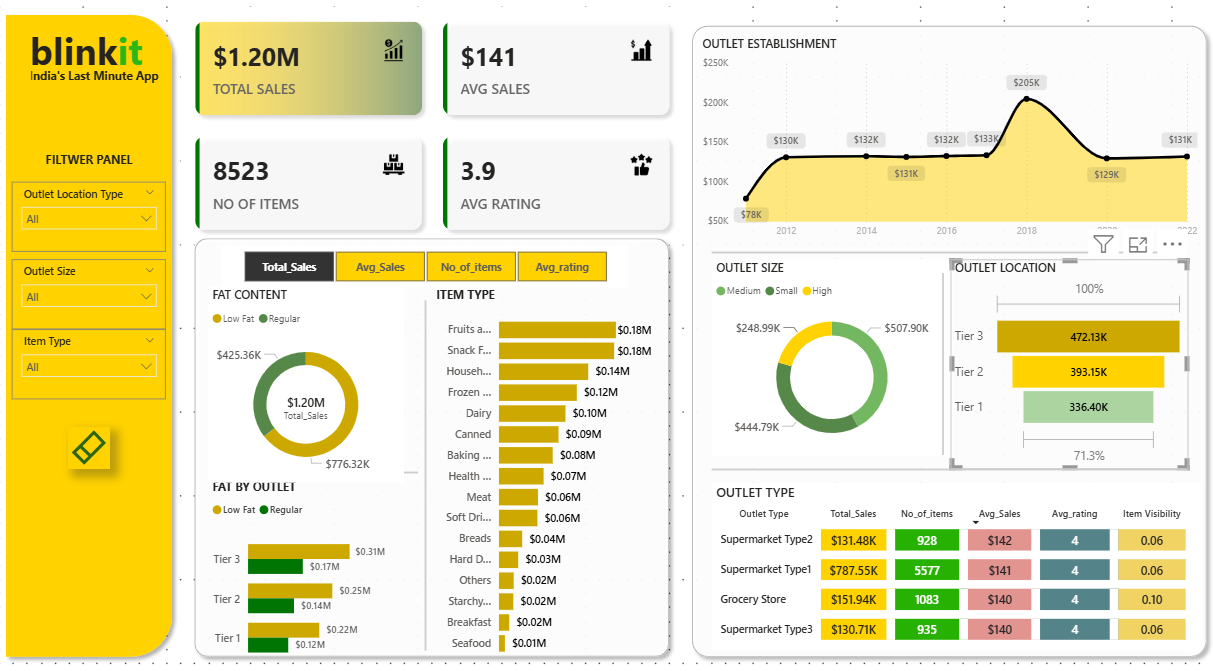

This screenshot's page, from the dashboard's own definition file:
{"tool":"powerbi","page":{"name":"BlinkIT Analysis","canvas":[1400,800],"ordinal":0},"visuals":[{"type":"shape","box":[0,16,208,752],"z":0},{"type":"textbox","box":[32,32,208,80],"z":0,"group":"g1"},{"type":"cardVisual","fields":{"Data":["BlinkIT Grocery Data.Total_Sales","BlinkIT Grocery Data.Avg_Sales","BlinkIT Grocery Data.No_of_items","BlinkIT Grocery Data.Avg_rating"]},"box":[208,16,576,272],"z":1000},{"type":"textbox","box":[32,80,208,80],"z":1000,"group":"g1"},{"type":"textbox","box":[0,176,208,32],"z":2000},{"type":"group","id":"g1","title":"Group 1","box":[32,32,208,128],"z":3000},{"type":"shape","box":[216,272,560,496],"z":4000},{"type":"donutChart","title":"FAT CONTENT","fields":{"Y":["BlinkIT Grocery Data.Total_Sales"],"Category":["BlinkIT Grocery Data.Item Fat Content"]},"box":[240,336,224,224],"z":4000,"group":"g2"},{"type":"slicer","fields":{"Values":["Metrics.Metrics"]},"box":[256,288,464,48],"z":5000},{"type":"cardVisual","fields":{"Data":["BlinkIT Grocery Data.Total_Sales"]},"box":[304,442,96,64],"z":6000,"group":"g2"},{"type":"clusteredBarChart","title":"FAT BY OUTLET","fields":{"Y":["BlinkIT Grocery Data.Total_Sales"],"Category":["BlinkIT Grocery Data.Outlet Location Type"],"Series":["BlinkIT Grocery Data.Item Fat Content"]},"box":[240,554,208,224],"z":6000},{"type":"shape","box":[240,460,240,176],"z":7000},{"type":"shape","box":[368,352,240,400],"z":8000},{"type":"clusteredBarChart","title":"ITEM TYPE","fields":{"Y":["BlinkIT Grocery Data.Total_Sales"],"Category":["BlinkIT Grocery Data.Item Type"]},"box":[496,336,256,432],"z":9000},{"type":"shape","box":[784,28,606,739],"z":10000},{"type":"lineChart","title":"OUTLET ESTABLISHMENT","fields":{"Category":["BlinkIT Grocery Data.Outlet Establishment Year"],"Y":["BlinkIT Grocery Data.Total_Sales"]},"box":[800,48,576,240],"z":11000},{"type":"shape","box":[816,208,544,176],"z":12000},{"type":"donutChart","title":"OUTLET SIZE","fields":{"Y":["BlinkIT Grocery Data.Total_Sales"],"Category":["BlinkIT Grocery Data.Outlet Size"]},"box":[816,304,275,225],"z":13000},{"type":"shape","box":[960,320,240,208],"z":14000},{"type":"funnel","title":"OUTLET LOCATION","fields":{"Category":["BlinkIT Grocery Data.Outlet Location Type"],"Y":["Sum(BlinkIT Grocery Data.Sales)"]},"box":[1088,304,272,240],"z":15000},{"type":"shape","box":[816,528,544,32],"z":16000},{"type":"pivotTable","title":"OUTLET TYPE","fields":{"Rows":["BlinkIT Grocery Data.Outlet Type"],"Values":["BlinkIT Grocery Data.Total_Sales","BlinkIT Grocery Data.No_of_items","BlinkIT Grocery Data.Avg_Sales","BlinkIT Grocery Data.Avg_rating","Avg(BlinkIT Grocery Data.Item Visibility)"]},"box":[816,560,560,192],"z":17000},{"type":"slicer","fields":{"Values":["BlinkIT Grocery Data.Outlet Location Type"]},"box":[16,216,176,80],"z":18000},{"type":"slicer","fields":{"Values":["BlinkIT Grocery Data.Outlet Size"]},"box":[16,304,176,80],"z":19000},{"type":"slicer","fields":{"Values":["BlinkIT Grocery Data.Item Type"]},"box":[16,384,176,80],"z":20000},{"type":"group","id":"g2","title":"Group 2","box":[240,336,224,224],"z":21000},{"type":"actionButton","box":[80,496,48,48],"z":22000}]}

Visuals, with their boxes on the page's 1400x800 design canvas (x1, y1, x2, y2). These are canvas units, not pixel positions in the 1213x671 screenshot, which may show the page scaled, cropped or inside an application window:
shape: (left=0, top=16, right=208, bottom=768)
textbox: (left=32, top=32, right=240, bottom=112)
cardVisual - BlinkIT Grocery Data.Total_Sales x BlinkIT Grocery Data.Avg_Sales: (left=208, top=16, right=784, bottom=288)
textbox: (left=32, top=80, right=240, bottom=160)
textbox: (left=0, top=176, right=208, bottom=208)
"Group 1" group: (left=32, top=32, right=240, bottom=160)
shape: (left=216, top=272, right=776, bottom=768)
"FAT CONTENT" donutChart: (left=240, top=336, right=464, bottom=560)
slicer - Metrics.Metrics: (left=256, top=288, right=720, bottom=336)
cardVisual - BlinkIT Grocery Data.Total_Sales: (left=304, top=442, right=400, bottom=506)
"FAT BY OUTLET" clusteredBarChart: (left=240, top=554, right=448, bottom=778)
shape: (left=240, top=460, right=480, bottom=636)
shape: (left=368, top=352, right=608, bottom=752)
"ITEM TYPE" clusteredBarChart: (left=496, top=336, right=752, bottom=768)
shape: (left=784, top=28, right=1390, bottom=767)
"OUTLET ESTABLISHMENT" lineChart: (left=800, top=48, right=1376, bottom=288)
shape: (left=816, top=208, right=1360, bottom=384)
"OUTLET SIZE" donutChart: (left=816, top=304, right=1091, bottom=529)
shape: (left=960, top=320, right=1200, bottom=528)
"OUTLET LOCATION" funnel: (left=1088, top=304, right=1360, bottom=544)
shape: (left=816, top=528, right=1360, bottom=560)
"OUTLET TYPE" pivotTable: (left=816, top=560, right=1376, bottom=752)
slicer - BlinkIT Grocery Data.Outlet Location Type: (left=16, top=216, right=192, bottom=296)
slicer - BlinkIT Grocery Data.Outlet Size: (left=16, top=304, right=192, bottom=384)
slicer - BlinkIT Grocery Data.Item Type: (left=16, top=384, right=192, bottom=464)
"Group 2" group: (left=240, top=336, right=464, bottom=560)
actionButton: (left=80, top=496, right=128, bottom=544)
